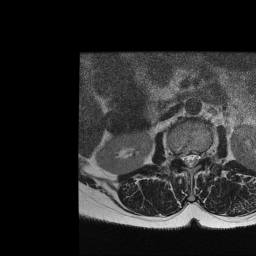CCS_normal: (187, 144, 193, 174)
LFS_normal: (200, 143, 207, 163)
LLS_normal: (193, 144, 200, 169)
RFS_stenosis: (174, 144, 181, 166)
RLS_normal: (181, 145, 187, 168)
